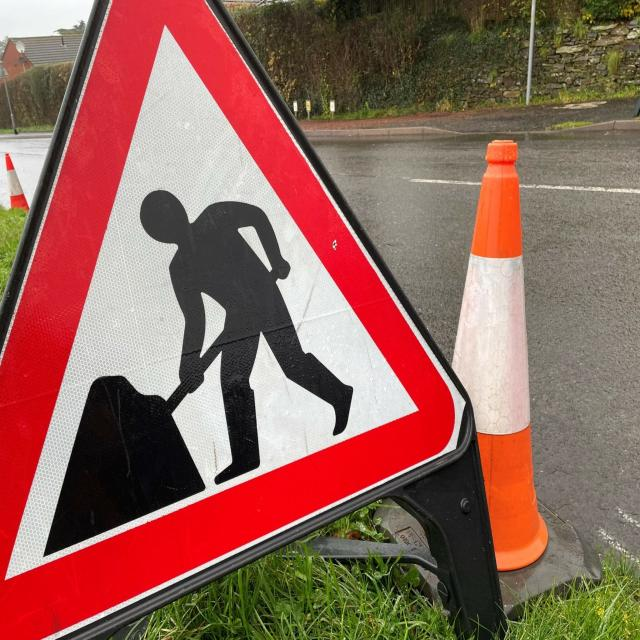roadwork: (0, 0, 481, 640)
